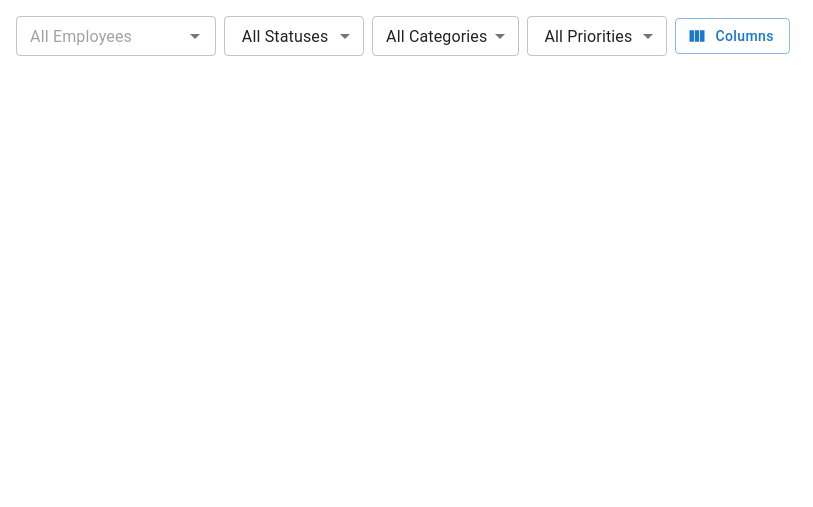
Test case: SuggestionsGrid › Column Visibility › should open column visibility menu when clicking columns button
What coordinates should you click on to do the following:
click the button "Columns"
I would click on:
 (733, 36)
Its box is [675,18,790,54].
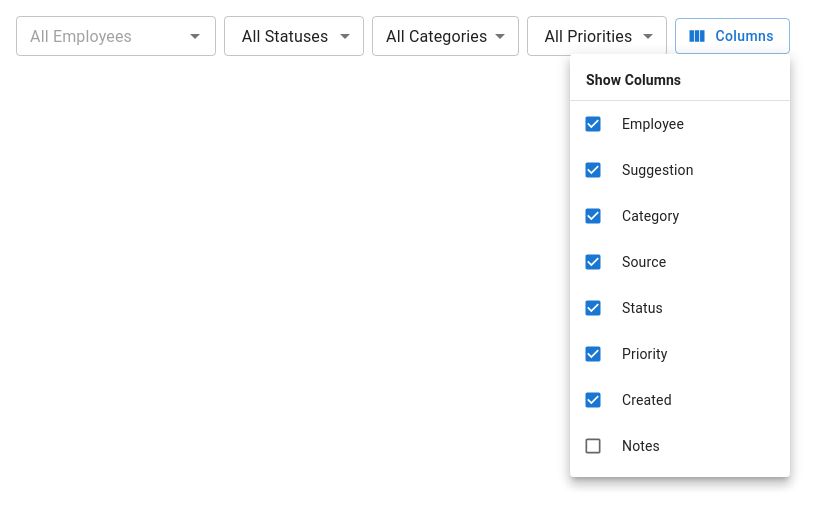
expect the menu is shown: met, box [583,72,694,456]
